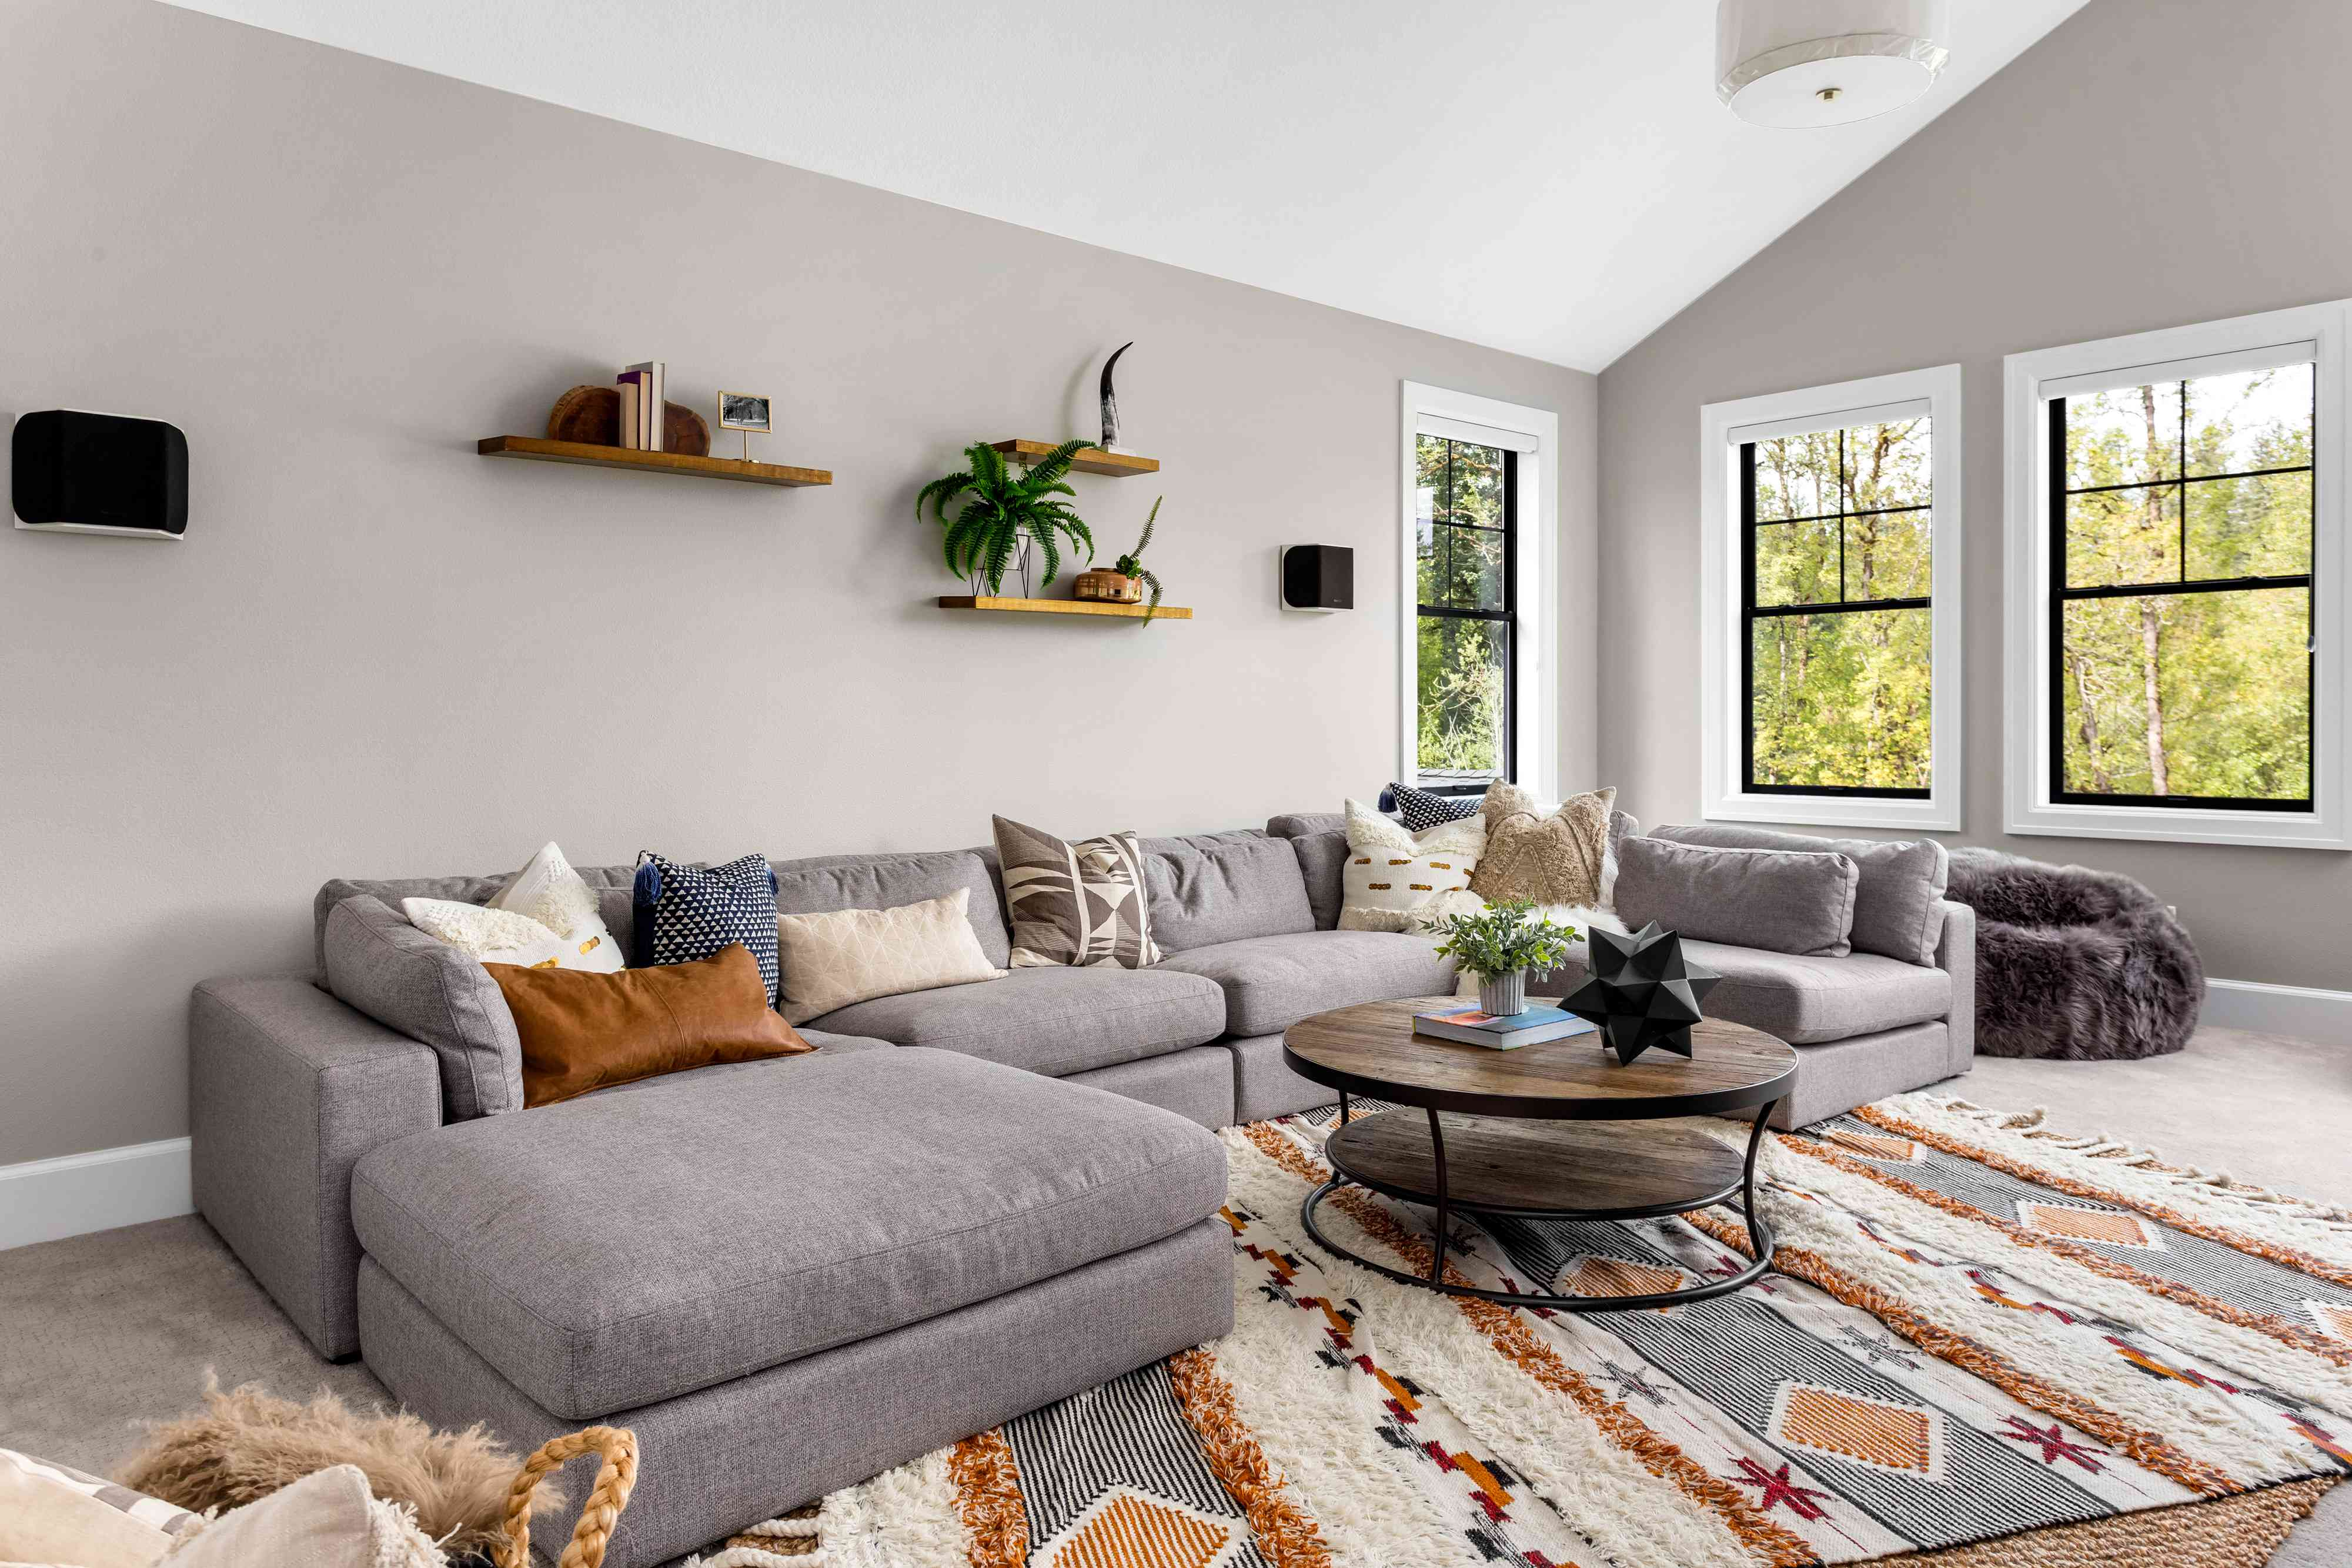coklat: (502, 962, 793, 1078)
hitam: (9, 406, 191, 530), (1284, 544, 1356, 607)
